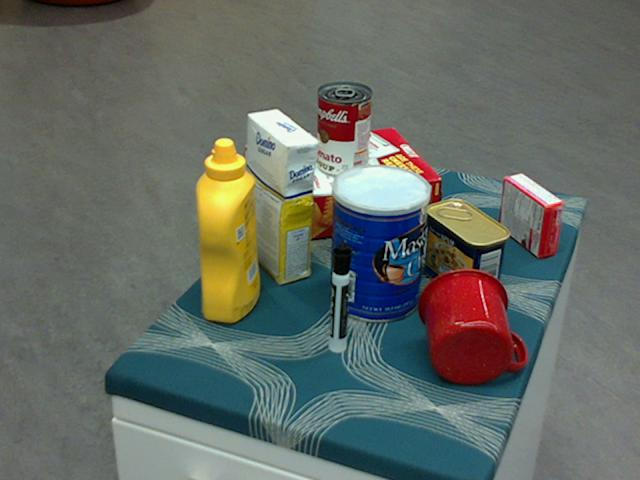cracker_box: (244, 127, 441, 247)
gelatin_box: (499, 173, 565, 258)
large_marker: (329, 244, 349, 354)
master_chef_can: (330, 164, 431, 323)
mug: (418, 267, 525, 384)
mustard_bottle: (195, 138, 260, 324)
potted_meat_can: (425, 199, 510, 303)
sugar_box: (245, 110, 316, 286)
tomato_soup_can: (317, 82, 372, 178)
tuna_fish_can: (359, 171, 432, 243)
